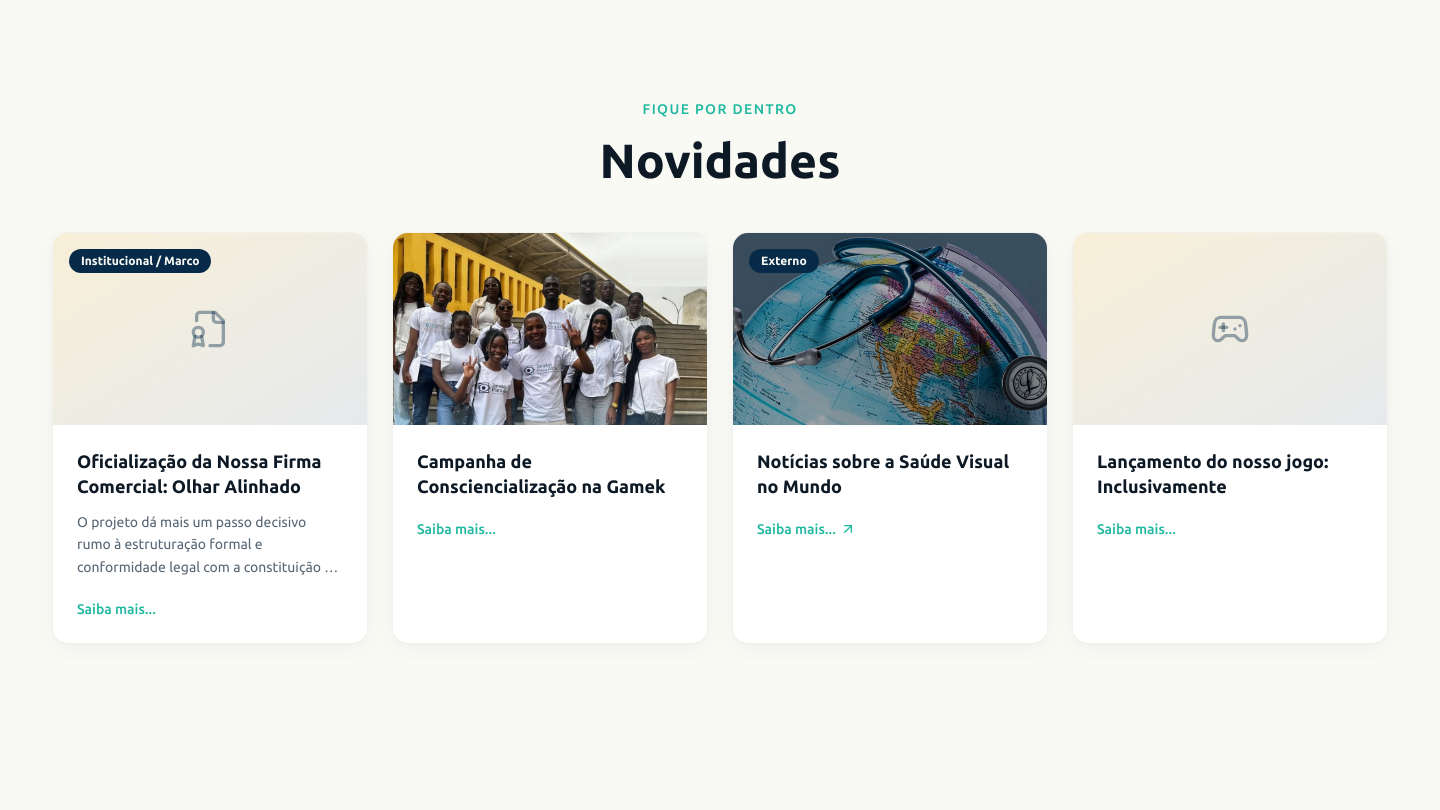
Test: NovidadesSection -- cartão da firma Olhar Alinhado › mostra o cartão com tag e resumo, e 'Saiba mais...' abre o modal com o detalhe
Expected: the text "Institucional / Marco" is shown, left=69, top=249, right=212, bottom=273
Expected: the text "constituição da Olhar Alinhado" is shown, left=77, top=514, right=341, bottom=620
Click the button "Oficialização da Nossa Firma Comercial" at (210, 329), box left=52, top=232, right=368, bottom=644
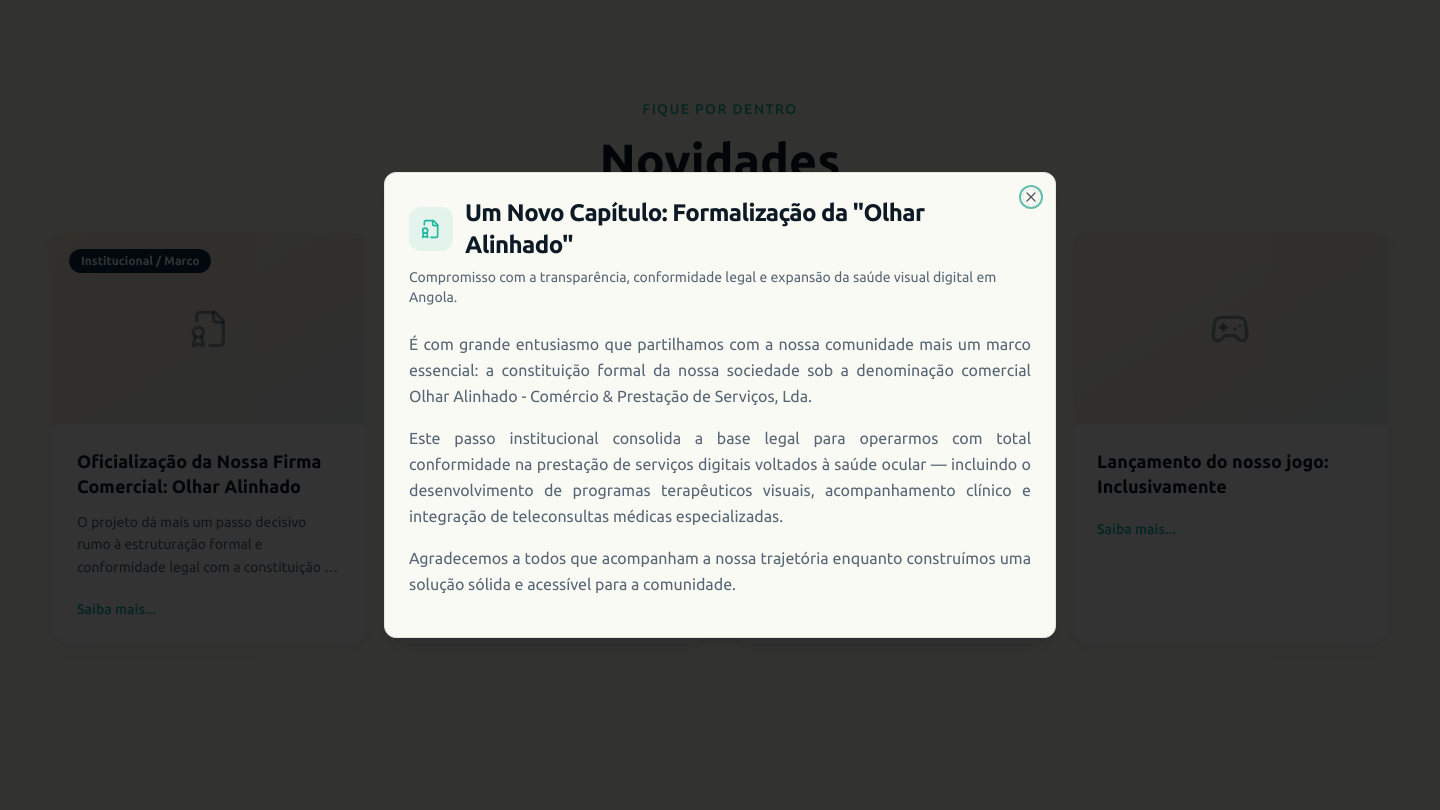
Expected: the heading "Um Novo Capítulo: Formalização da \"Olhar Alinhado\"" is shown, left=409, top=199, right=924, bottom=258
Expected: the text "Compromisso com a transparência" is shown, left=409, top=269, right=996, bottom=305
Expected: the text "teleconsultas médicas especializadas" is shown, left=409, top=429, right=1031, bottom=525
